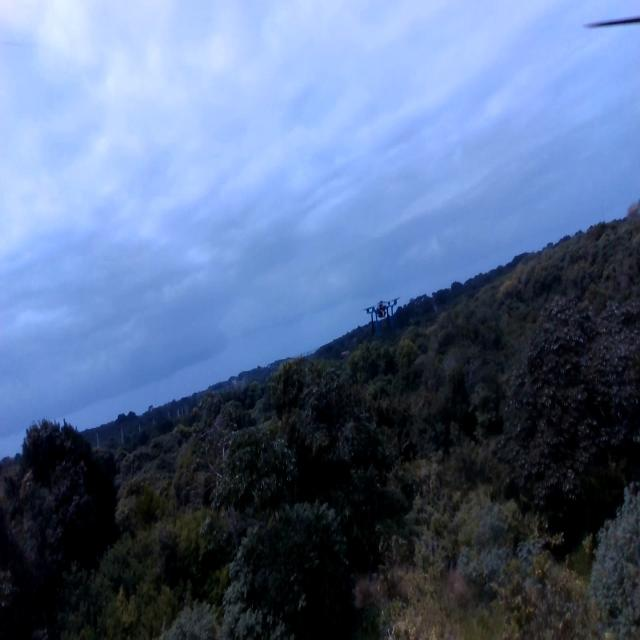-uav-: (360, 293, 404, 332)
